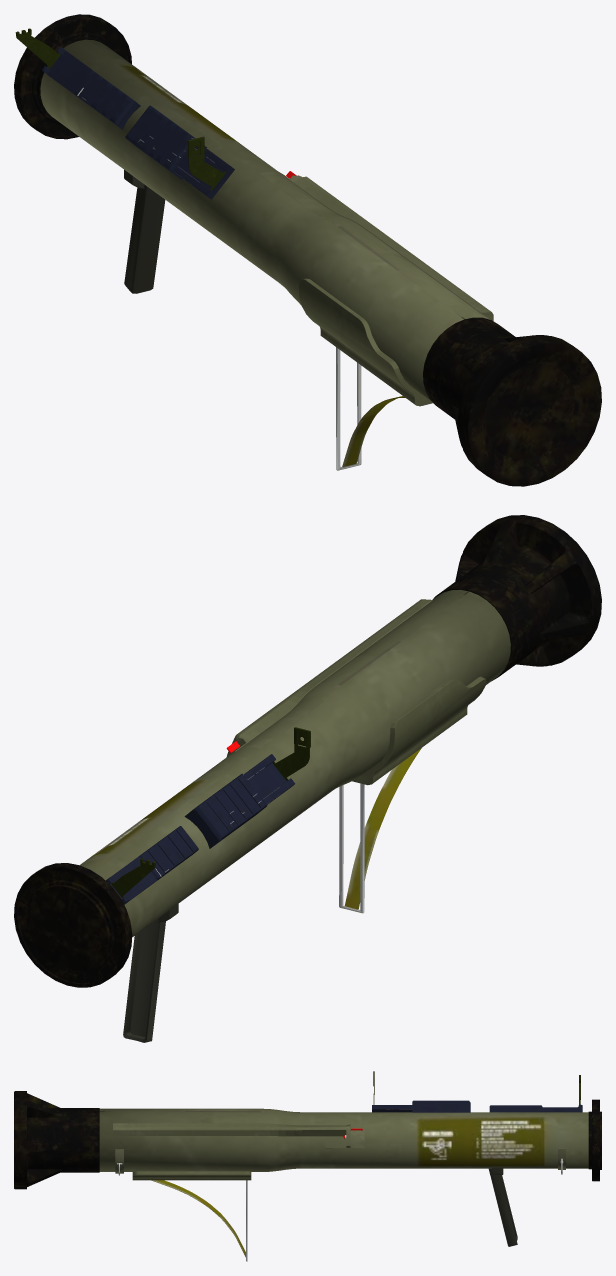
3 renders of one model, top to bottom at view 1: azimuth 30°, elevation 25°; view 2: azimuth 150°, elevation 25°; view 3: azimuth 270°, elevation 25°, orthographic. The views are drawn at different scales.
Visible parts, largest first — view 1: m136_body; view 2: m136_body; view 3: m136_body.
Part boxes in pixels (<box>): m136_body: <box>14,14,601,486</box>; m136_body: <box>14,515,601,1042</box>; m136_body: <box>14,1071,601,1261</box>.
Bounding box in the file's own units: 0.1729 × 0.3228 × 1.02.
1 material, 1 textured.
